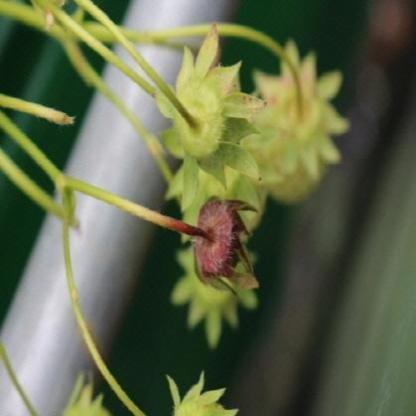Strawberry_Gray_Mold: (172, 198, 260, 300)
